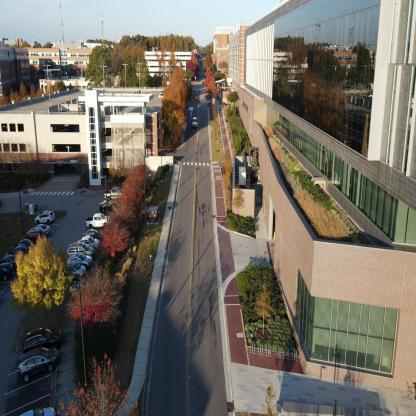EB-1: (226, 29, 240, 102)
Fitts- Woolard: (241, 24, 415, 386)
